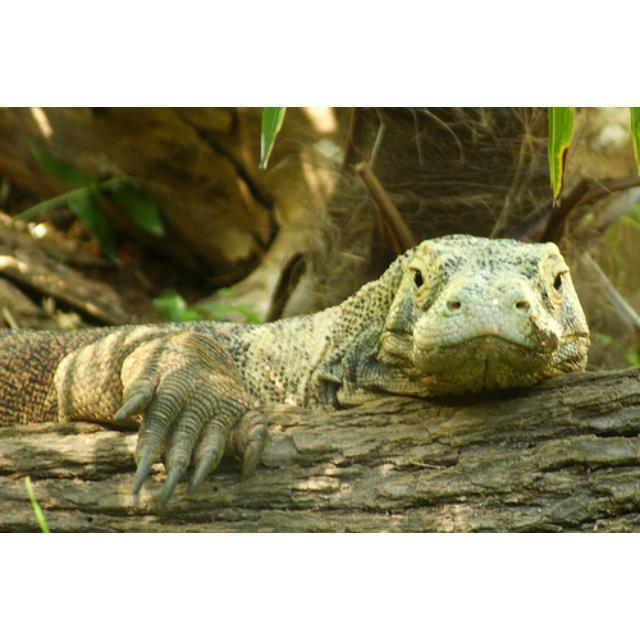KomodoDragon: (1, 232, 592, 507)
